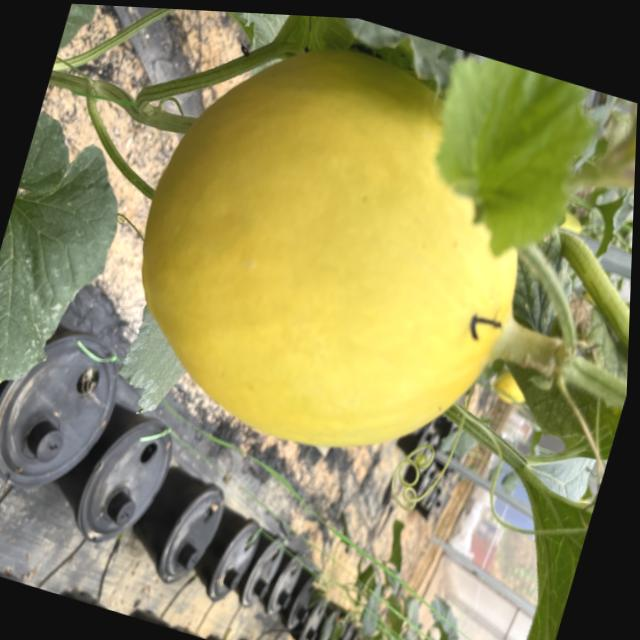healthy: (480, 461, 602, 640)
powdery mildew: (0, 117, 142, 436)
